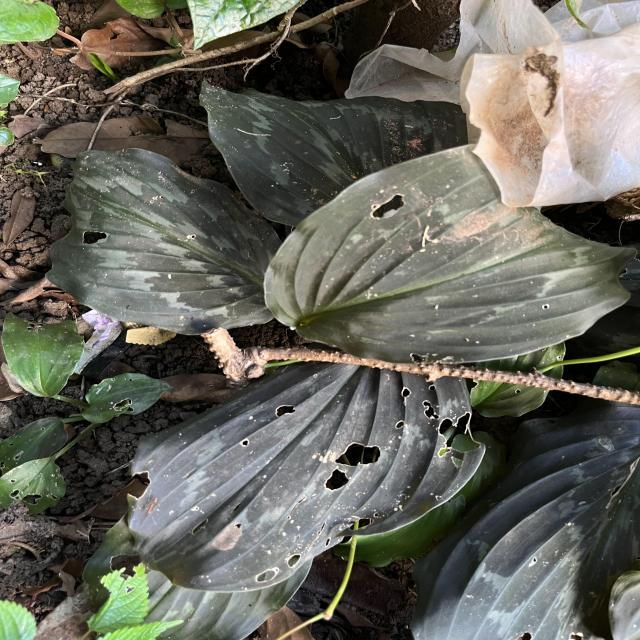Kaempferia galanga linn: (42, 146, 285, 338), (196, 75, 470, 229)
